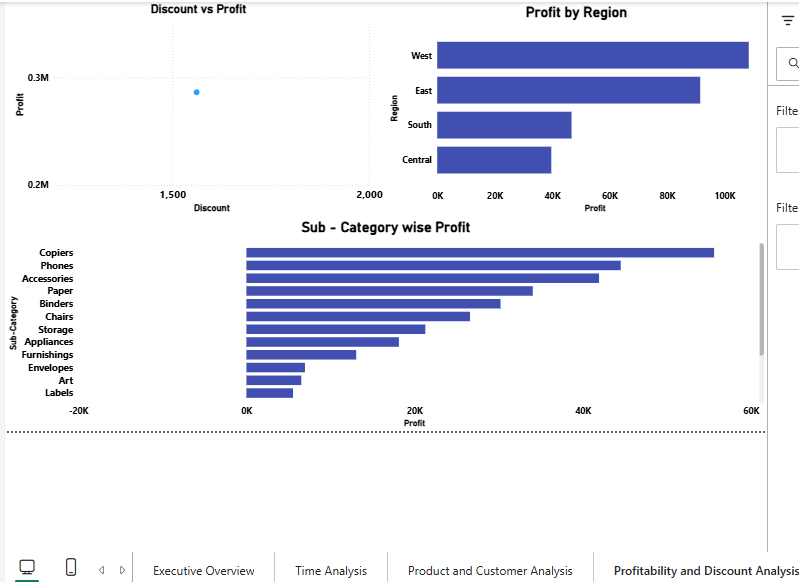

This screenshot's page, from the dashboard's own definition file:
{"tool":"powerbi","page":{"name":"Profitability and Discount Analysis","canvas":[1280,720],"ordinal":3},"visuals":[{"type":"scatterChart","title":"Discount vs Profit","fields":{"X":["Sum(Retail.Discount)"],"Y":["Sum(Retail.Profit)"]},"box":[10.1,0,629.9,359.5],"z":0},{"type":"clusteredBarChart","title":"Profit by Region","fields":{"Category":["Retail.Region"],"Y":["Sum(Retail.Profit)"]},"box":[640,3.4,640,356.1],"z":1},{"type":"clusteredBarChart","title":"Sub - Category wise Profit","fields":{"Category":["Retail.Sub-Category"],"Y":["Sum(Retail.Profit)"]},"box":[0,364.5,1280,356.1],"z":2}]}

Visuals, with their boxes on the page's 1280x720 design canvas (x1, y1, x2, y2). These are canvas units, not pixel positions in the 799x582 screenshot, which may show the page scaled, cropped or inside an application window:
"Discount vs Profit" scatterChart: Rect(10, 0, 640, 360)
"Profit by Region" clusteredBarChart: Rect(640, 3, 1280, 360)
"Sub - Category wise Profit" clusteredBarChart: Rect(0, 364, 1280, 721)
